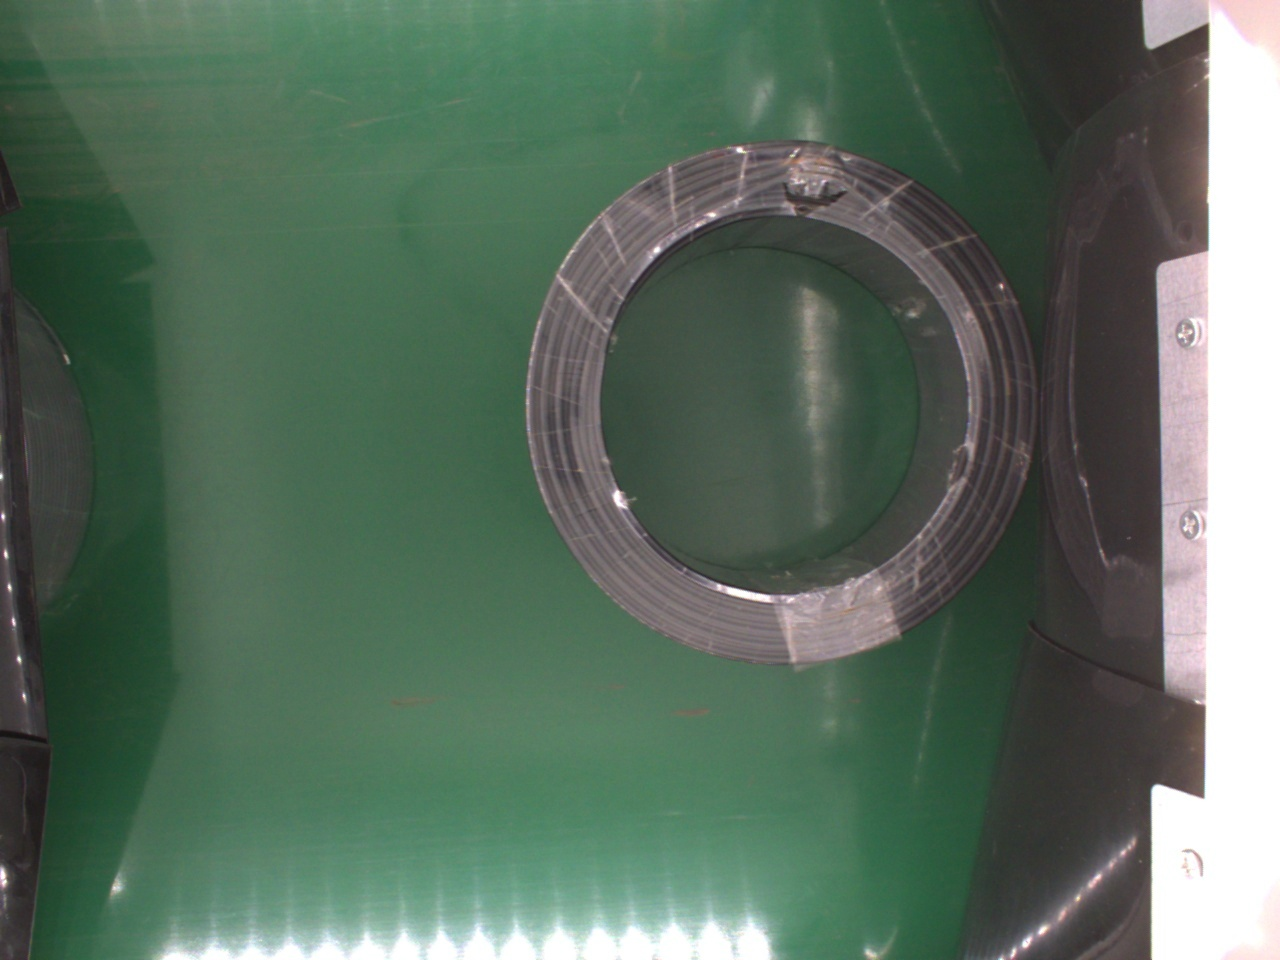black: (525, 140, 1033, 666)
